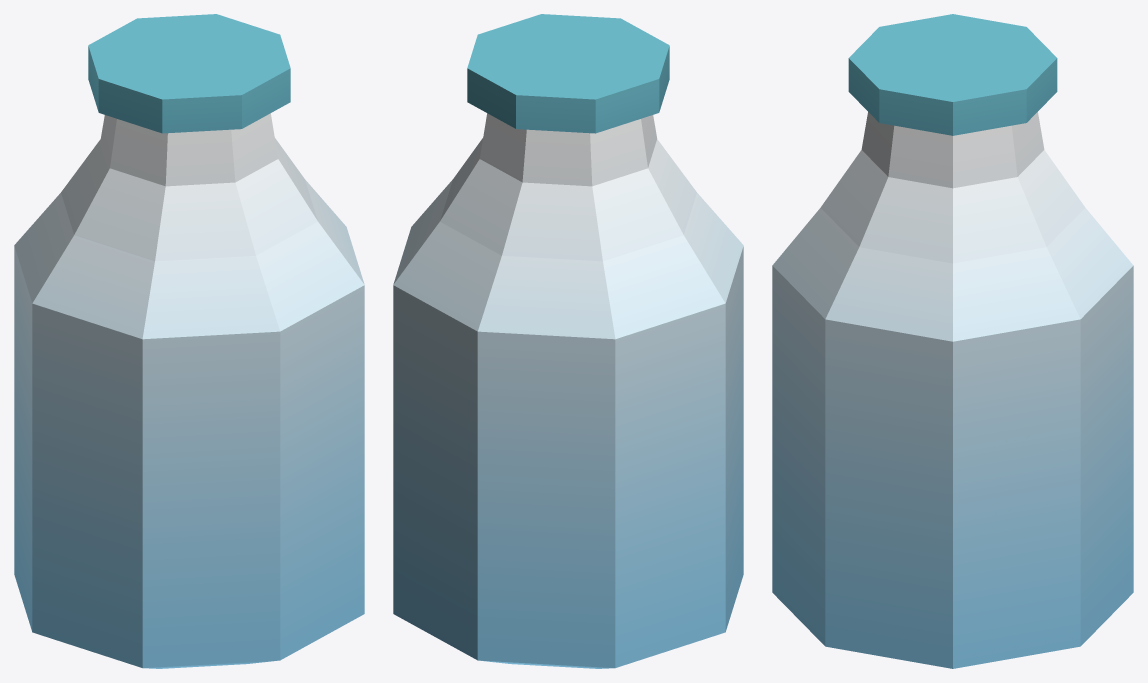
The model's file is milk bottle.fbx.
3 views of the same model, side by side, from view 1: azimuth 30°, elevation 25°; view 2: azimuth 150°, elevation 25°; view 3: azimuth 270°, elevation 25° (orthographic).
Visible parts, largest first — view 1: milk_bottle; view 2: milk_bottle; view 3: milk_bottle.
Boxes of the visible parts, x1,y1,x2,y2 form: milk_bottle: (14, 14, 364, 668); milk_bottle: (393, 14, 743, 668); milk_bottle: (772, 14, 1133, 668).
Bounding box in the file's own units: 89.63 × 154 × 89.63.
1 material, 1 textured.
